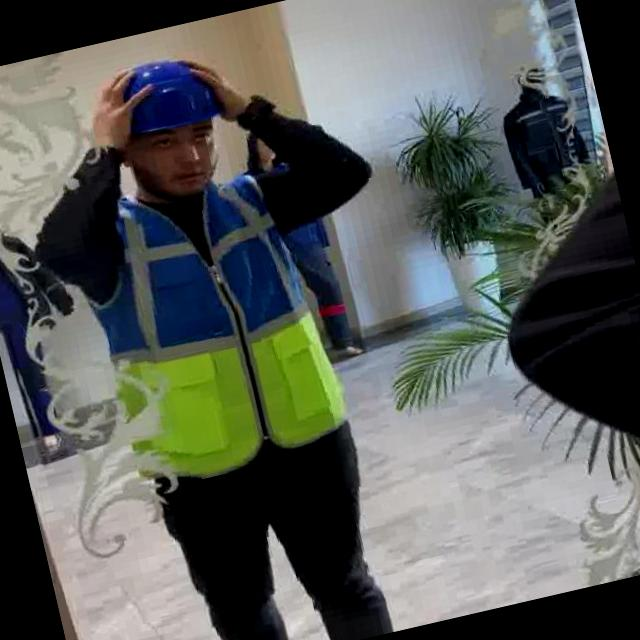no-gloves: (75, 67, 158, 159), (181, 45, 255, 132)
vest: (64, 150, 362, 498)
